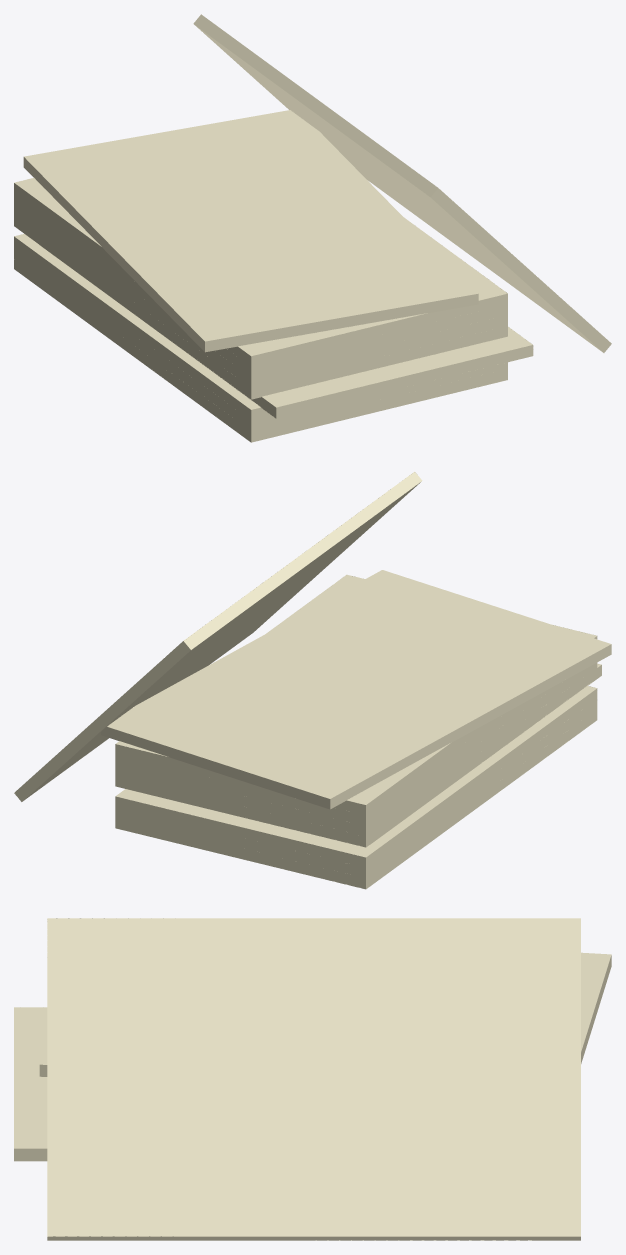
The model's file is papers.fbx.
3 renders of one model, top to bottom at view 1: azimuth 30°, elevation 25°; view 2: azimuth 150°, elevation 25°; view 3: azimuth 270°, elevation 25°, orthographic. The views are drawn at different scales.
Visible parts, largest first — view 1: cube_8, cube_outline_9, cube_outline_7, cube_outline_3, cube_outline, cube_outline_4, cube_outline_5, cube_outline_2, cube_outline_6, cube_outline_1, cube_3, cube_9 (+2 smaller); view 2: cube_8, cube_outline_9, cube_outline_2, cube_outline, cube_outline_4, cube_outline_1, cube_outline_5, cube_outline_7, cube_outline_6, cube_9, cube_2, cube_4; view 3: cube_outline_9, cube_9, cube_outline_3, cube_8, cube_3.
Part boxes in pixels (x1,y1,x2,y2): cube_8: [23, 110, 478, 352]; cube_outline_9: [193, 14, 611, 352]; cube_outline_7: [14, 178, 507, 366]; cube_outline_3: [44, 248, 533, 418]; cube_outline: [14, 258, 507, 442]; cube_outline_4: [14, 215, 507, 399]; cube_outline_5: [14, 204, 507, 388]; cube_outline_2: [14, 234, 271, 420]; cube_outline_6: [14, 194, 507, 377]; cube_outline_1: [14, 247, 507, 431]; cube_3: [260, 327, 531, 412]; cube_9: [199, 18, 608, 348]; cube_8: [101, 570, 611, 809]; cube_outline_9: [14, 471, 422, 801]; cube_outline_2: [115, 685, 597, 868]; cube_outline: [115, 710, 597, 889]; cube_outline_4: [115, 667, 597, 847]; cube_outline_1: [115, 699, 597, 878]; cube_outline_5: [115, 663, 597, 836]; cube_outline_7: [115, 574, 597, 815]; cube_outline_6: [115, 679, 567, 825]; cube_9: [15, 474, 413, 797]; cube_2: [118, 687, 596, 860]; cube_4: [118, 669, 596, 839]; cube_outline_9: [47, 918, 580, 1240]; cube_9: [48, 919, 575, 1240]; cube_outline_3: [14, 1007, 47, 1161]; cube_8: [39, 952, 611, 1076]; cube_3: [16, 1008, 47, 1154].
Size of the model in its own units: 47.7 by 24.35 by 56.08.
1 material, 1 textured.
